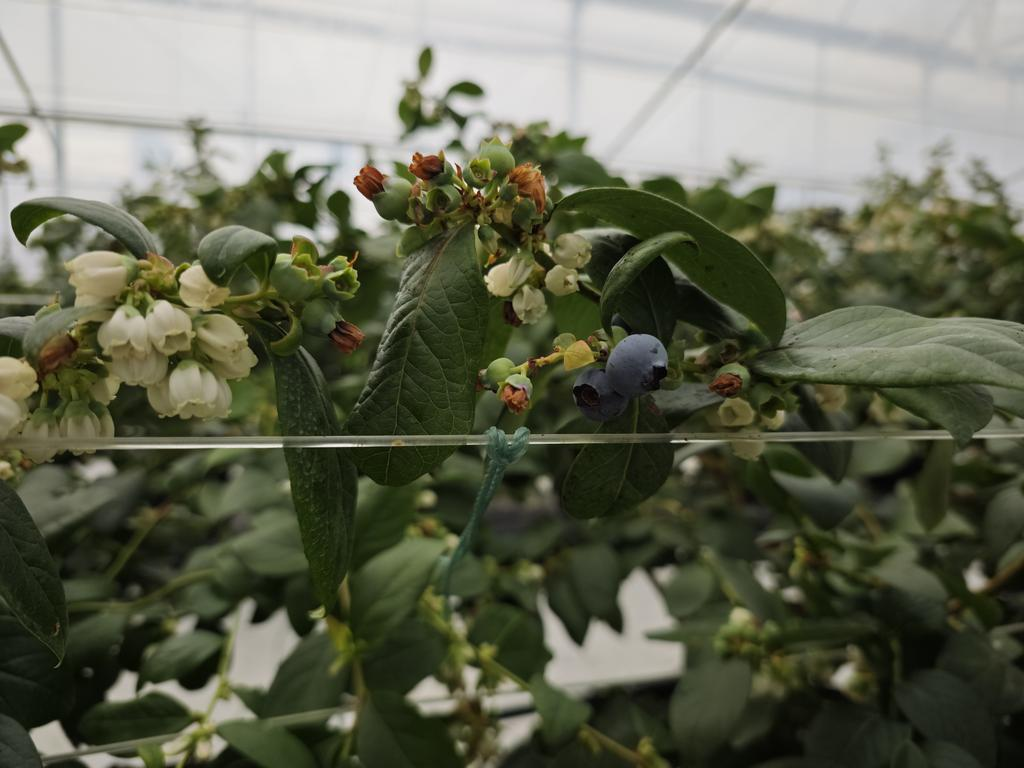RipeBlueBerry: (602, 331, 671, 399), (570, 365, 633, 423)
